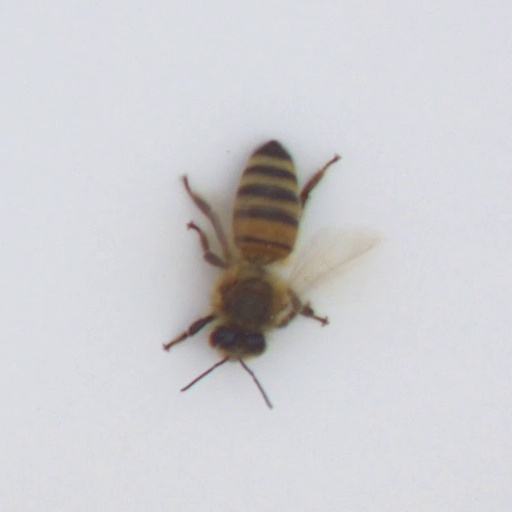Bee: (205, 144, 298, 361)
Thorax: (201, 264, 288, 328)
